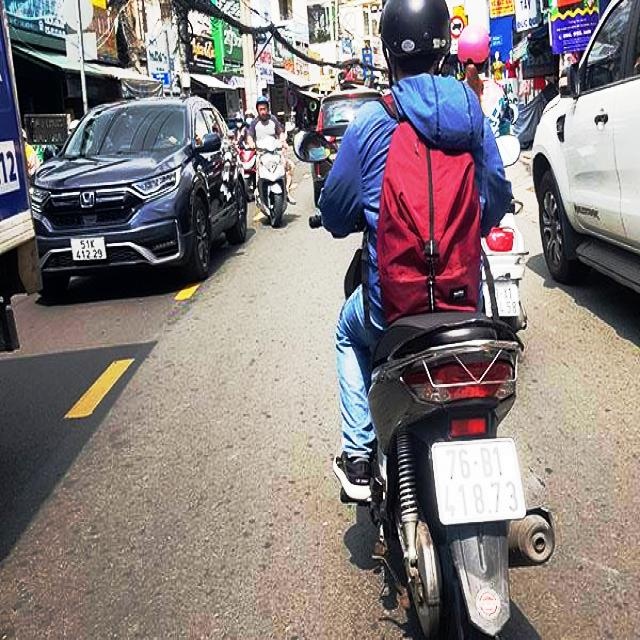license_plate: (436, 440, 527, 525)
